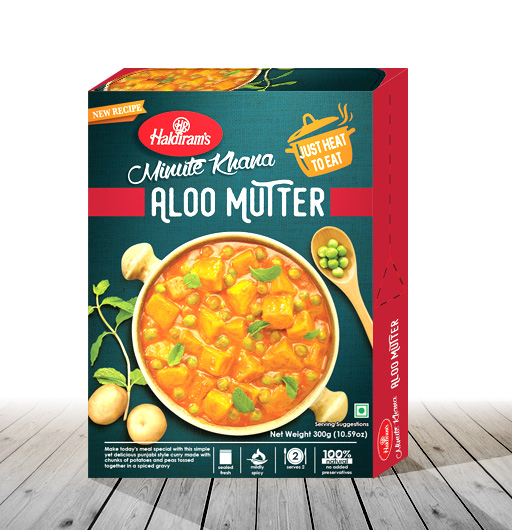VEG: (352, 402, 370, 420)
